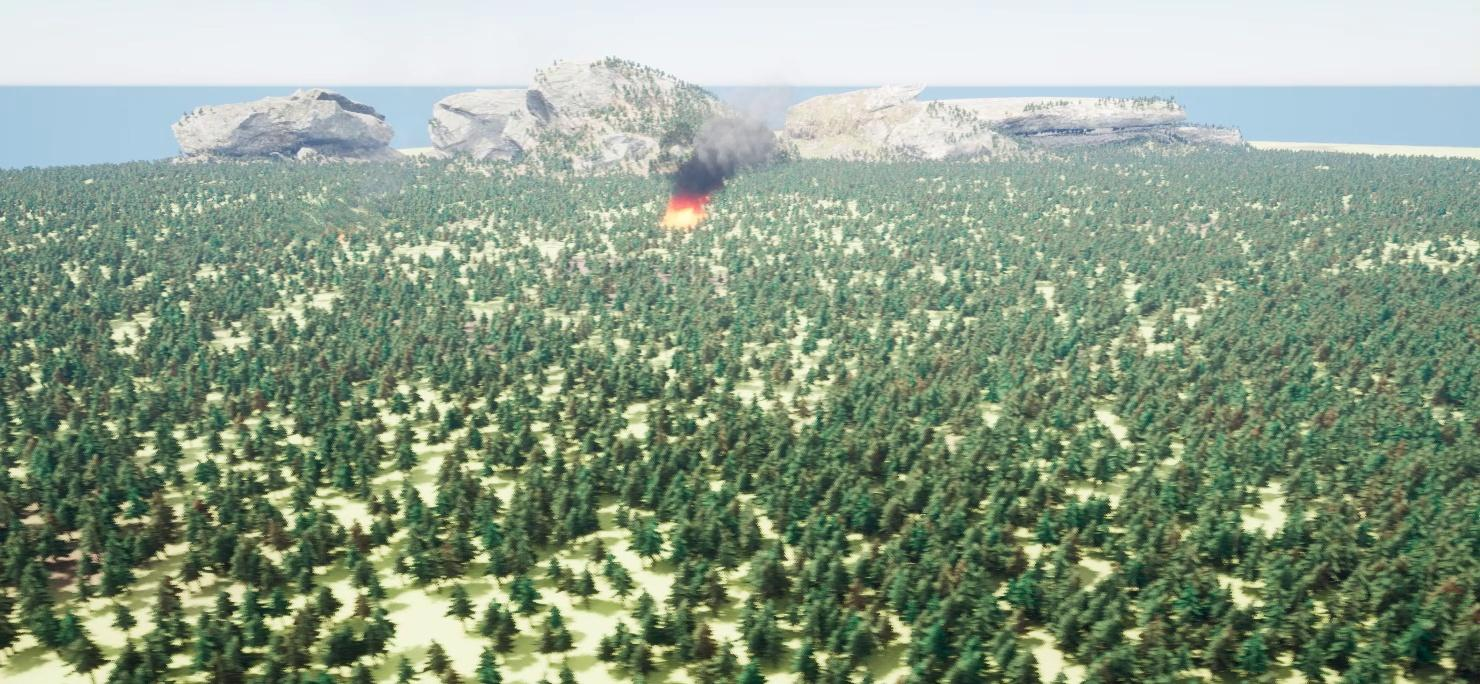fire: (656, 197, 707, 225)
smoke: (676, 85, 798, 187)
